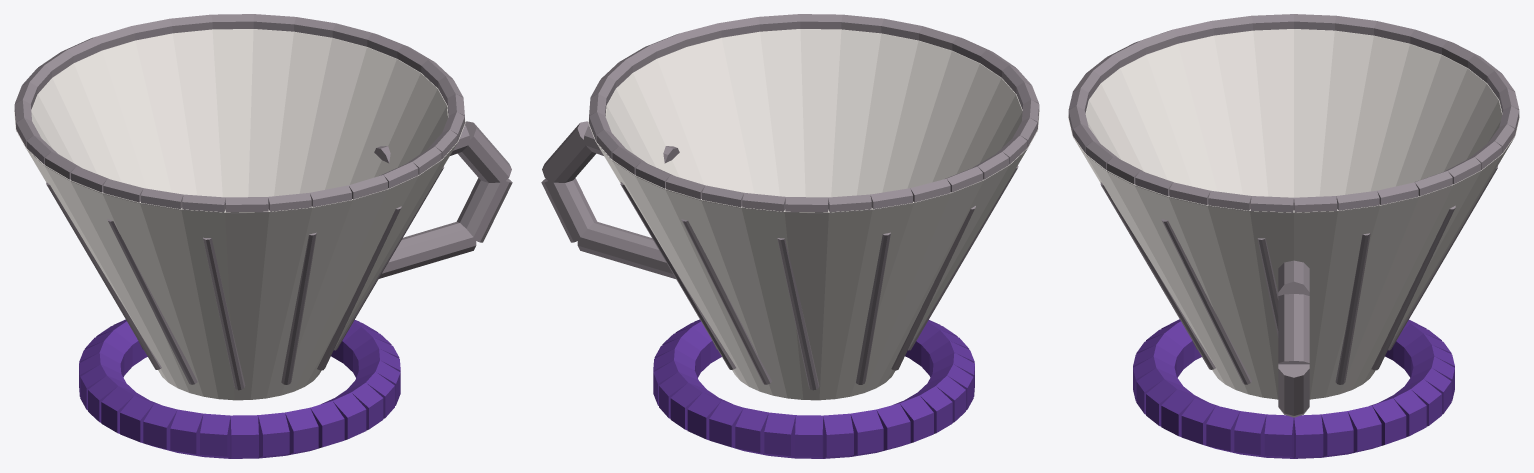
File: dripper.glb
3 renders of one model, left to right at view 1: azimuth 30°, elevation 25°; view 2: azimuth 150°, elevation 25°; view 3: azimuth 270°, elevation 25°, orthographic.
Visible parts, largest first — view 1: conical wall, handle3, handle2, handle1, flute40, flute30, flute50, support foot9, support foot11, support foot12, support foot10, support foot8 (+40 smaller); view 2: conical wall, handle3, handle2, handle1, flute80, flute70, flute90, support foot22, support foot20, support foot19, support foot21, support foot23 (+40 smaller); view 3: conical wall, handle1, handle2, flute110, flute10, support foot1, support foot30, support foot0, support foot31, support foot2, support foot29, flute100 (+42 smaller).
Part boxes in pixels (x1=…): conical wall: x1=14, y1=29, x2=465, y2=400; handle3: x1=379, y1=221, x2=476, y2=278; handle2: x1=457, y1=178, x2=512, y2=242; handle1: x1=457, y1=121, x2=511, y2=183; flute40: x1=203, y1=237, x2=245, y2=390; flute30: x1=281, y1=232, x2=316, y2=384; flute50: x1=107, y1=219, x2=197, y2=384; support foot9: x1=258, y1=412, x2=289, y2=458; support foot11: x1=200, y1=413, x2=230, y2=458; support foot12: x1=170, y1=409, x2=203, y2=456; support foot10: x1=230, y1=415, x2=258, y2=458; support foot8: x1=285, y1=407, x2=318, y2=455; conical wall: x1=588, y1=29, x2=1039, y2=400; handle3: x1=577, y1=221, x2=675, y2=278; handle2: x1=541, y1=178, x2=596, y2=242; handle1: x1=542, y1=121, x2=596, y2=183; flute80: x1=777, y1=238, x2=819, y2=390; flute70: x1=856, y1=232, x2=890, y2=384; flute90: x1=681, y1=219, x2=771, y2=384; support foot22: x1=764, y1=412, x2=795, y2=458; support foot20: x1=823, y1=413, x2=853, y2=458; support foot19: x1=850, y1=409, x2=883, y2=456; support foot21: x1=795, y1=415, x2=823, y2=458; support foot23: x1=735, y1=407, x2=768, y2=455; conical wall: x1=1068, y1=29, x2=1519, y2=399; handle1: x1=1278, y1=294, x2=1309, y2=364; handle2: x1=1278, y1=364, x2=1309, y2=415; flute110: x1=1335, y1=233, x2=1370, y2=384; flute10: x1=1161, y1=219, x2=1251, y2=384; support foot1: x1=1234, y1=411, x2=1266, y2=457; support foot30: x1=1321, y1=411, x2=1353, y2=457; support foot0: x1=1264, y1=414, x2=1293, y2=458; support foot31: x1=1294, y1=414, x2=1323, y2=458; support foot2: x1=1206, y1=405, x2=1239, y2=454; support foot29: x1=1348, y1=405, x2=1381, y2=454; flute100: x1=1371, y1=205, x2=1455, y2=370.
Bounding box in the file's own units: 1.57 × 0.947 × 1.32.
